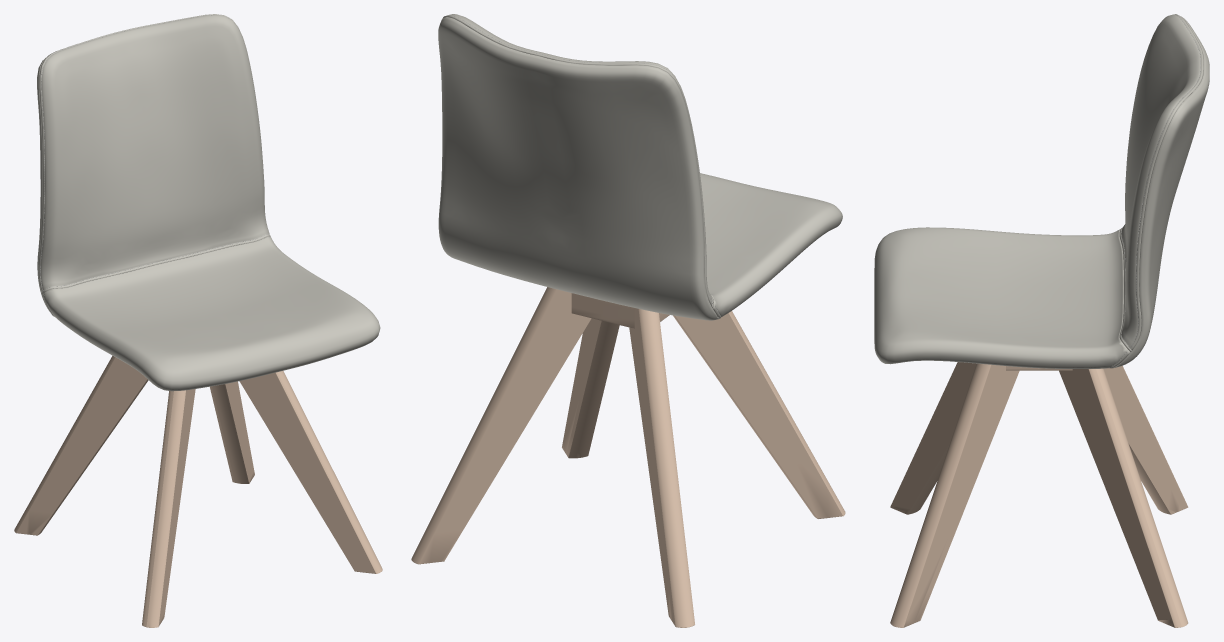
Rendered from cadeira-anne-fixa.glb.
The picture shows the model from 3 angles, left to right: view 1: azimuth 30°, elevation 25°; view 2: azimuth 150°, elevation 25°; view 3: azimuth 270°, elevation 25°; orthographic projection. The views are drawn at different scales.
Size of the model in its own units: 0.4795 by 0.8977 by 0.5398.
